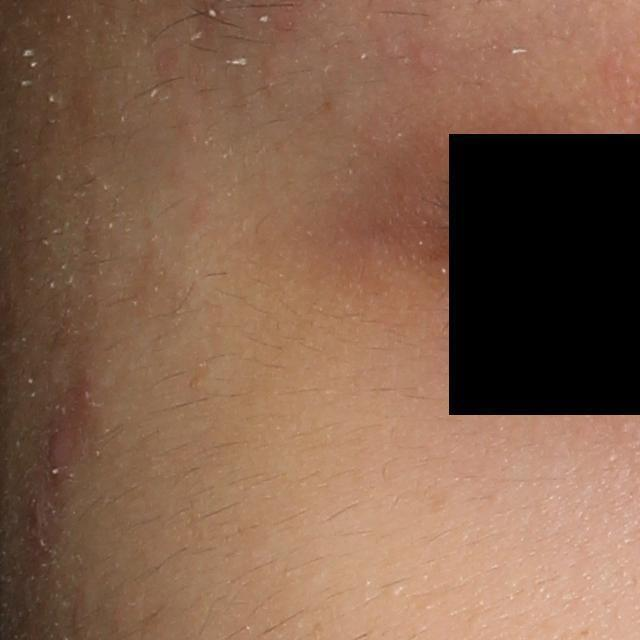papule: (42, 426, 78, 474)
